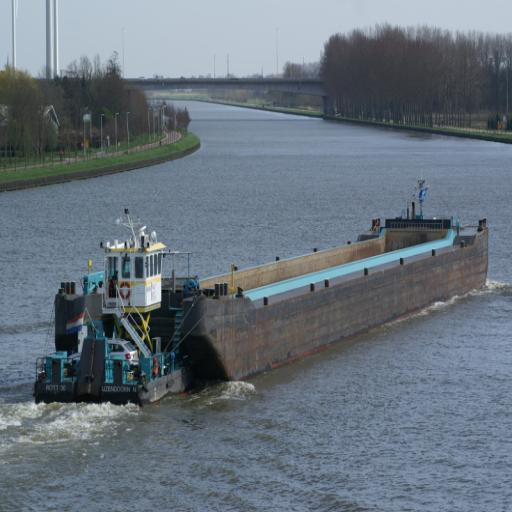tugboat: (32, 209, 205, 416)
